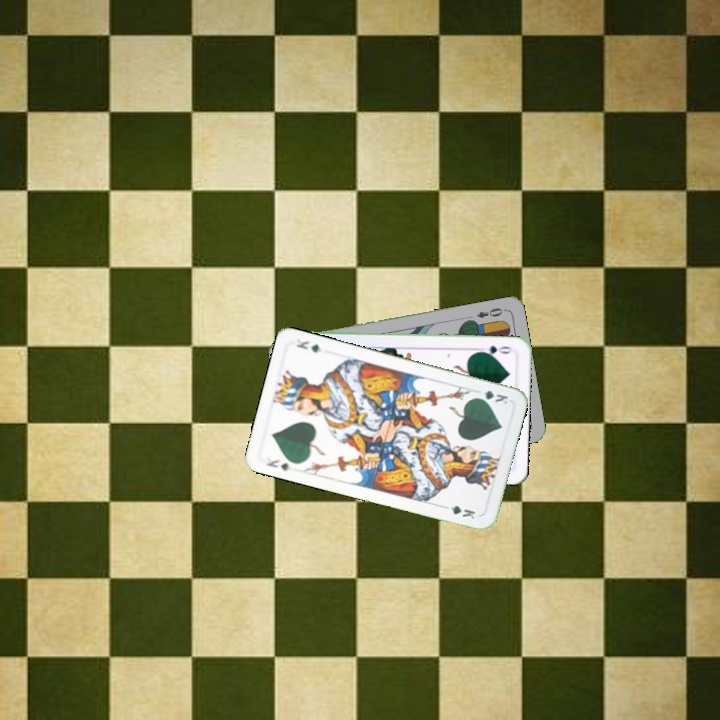EO: (473, 304, 508, 321)
GK: (471, 386, 511, 407), (263, 455, 295, 473)
GO: (475, 342, 516, 358)
